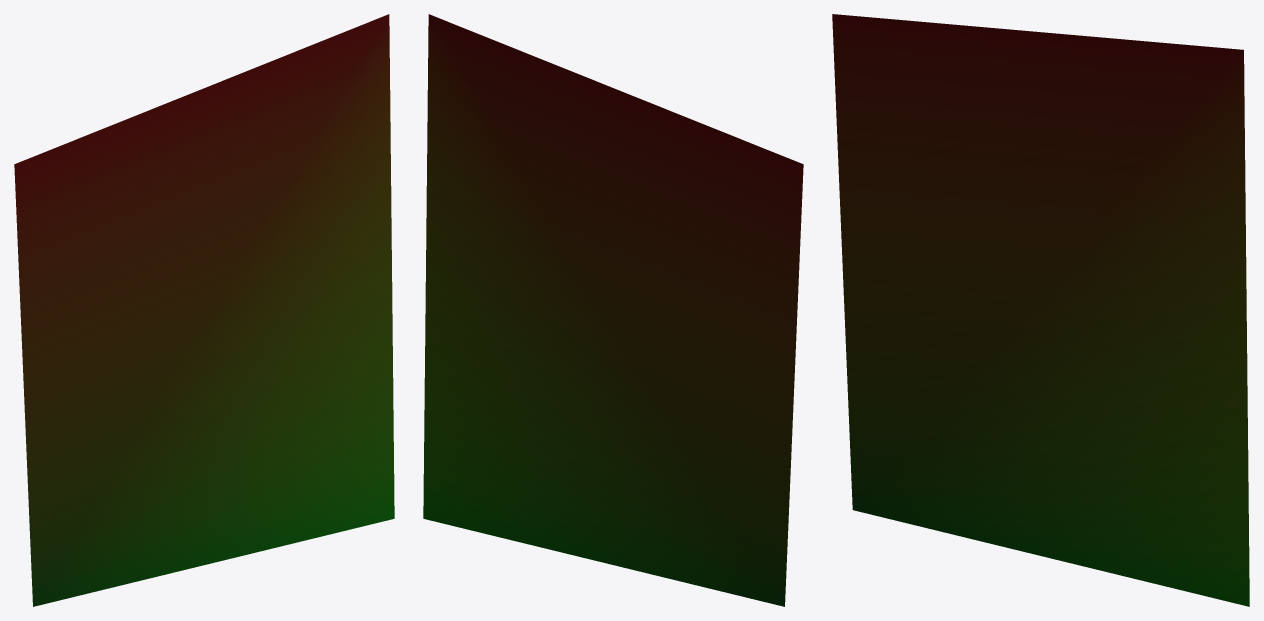
Rendered from Var1_LOD3.fbx.
3 views of the same model, side by side, from view 1: azimuth 30°, elevation 25°; view 2: azimuth 150°, elevation 25°; view 3: azimuth 330°, elevation 25° (orthographic). The views are drawn at different scales.
Parts seen in each view (by area): view 1: _e1da_Var1_LOD3; view 2: _e1da_Var1_LOD3; view 3: _e1da_Var1_LOD3.
Boxes of the visible parts, bbox=[...] form: _e1da_Var1_LOD3: bbox=[14, 14, 394, 606]; _e1da_Var1_LOD3: bbox=[423, 14, 803, 606]; _e1da_Var1_LOD3: bbox=[832, 14, 1249, 606].
Bounding box in the file's own units: 27.28 × 34.69 × 7.81e-06.
